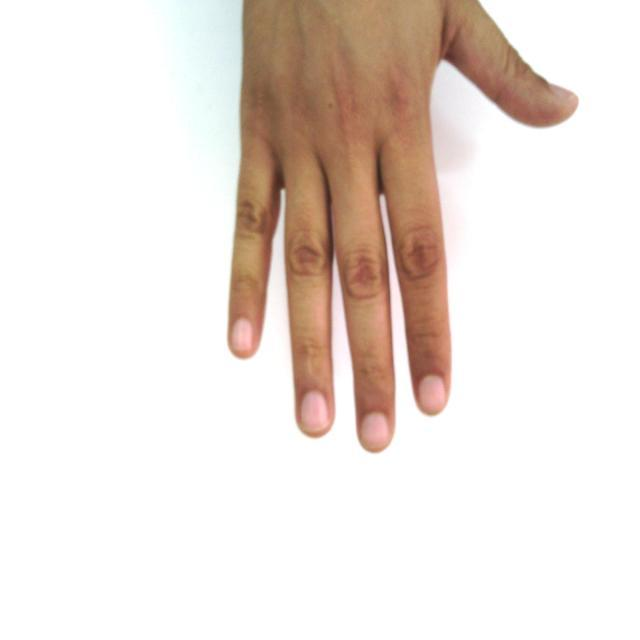Fingernail: (301, 392, 328, 431), (361, 413, 389, 449), (419, 376, 445, 413), (233, 320, 254, 350), (550, 85, 574, 97)
